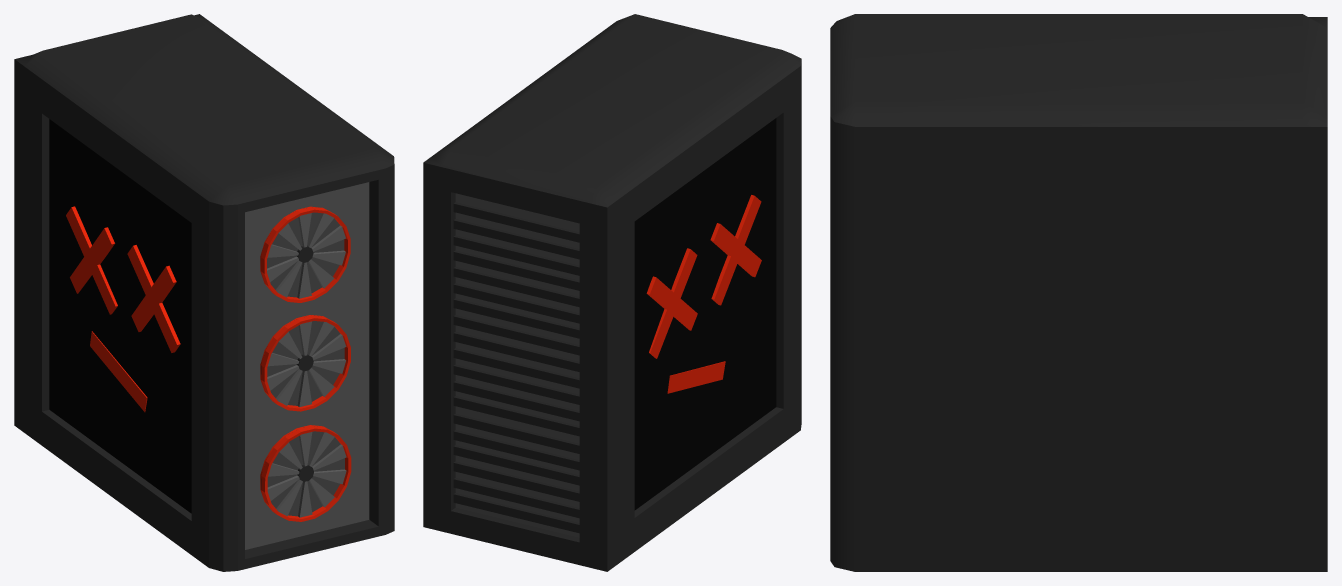
3 renders of one model, left to right at view 1: azimuth 30°, elevation 25°; view 2: azimuth 150°, elevation 25°; view 3: azimuth 270°, elevation 25°, orthographic. The views are drawn at different scales.
Parts seen in each view (by area): view 1: pCube1, pasted__pasted__pasted__pasted__polySurface3, pasted__pasted__pasted__polySurface3, pasted__pasted__pasted__polySurface4, group17_pasted__group16_pasted__pasted__pCube3; view 2: pCube1, pasted__pasted__pCube2 (×5), pasted__pasted__pasted__pCube2 (×5), pasted__pasted__pasted__pasted__pCube2 (×4), group17_pasted__group16_pasted__pasted__pCube3, pasted__pCube2 (×2), pCube2, pasted__pasted__pasted__pasted__pasted__pasted__pCube2, pasted__pasted__pasted__pasted__pasted__pCube2; view 3: pCube1.
Boxes of the visible parts, x1,y1,x2,y2 form: pCube1: [14, 14, 394, 571]; pasted__pasted__pasted__pasted__polySurface3: [260, 425, 351, 521]; pasted__pasted__pasted__polySurface3: [260, 315, 350, 411]; pasted__pasted__pasted__polySurface4: [260, 206, 350, 302]; group17_pasted__group16_pasted__pasted__pCube3: [66, 206, 180, 412]; pCube1: [423, 14, 801, 571]; pasted__pasted__pCube2 (×5): [453, 298, 579, 501]; pasted__pasted__pasted__pCube2 (×5): [453, 283, 579, 453]; pasted__pasted__pasted__pasted__pCube2 (×4): [453, 235, 579, 355]; group17_pasted__group16_pasted__pasted__pCube3: [646, 195, 761, 393]; pasted__pCube2 (×2): [453, 396, 579, 518]; pCube2: [453, 493, 579, 533]; pasted__pasted__pasted__pasted__pasted__pasted__pCube2: [453, 202, 579, 242]; pasted__pasted__pasted__pasted__pasted__pCube2: [453, 219, 579, 259]; pCube1: [830, 14, 1327, 571].
Bounding box in the file's own units: 3.8 × 7.41 × 7.28.
